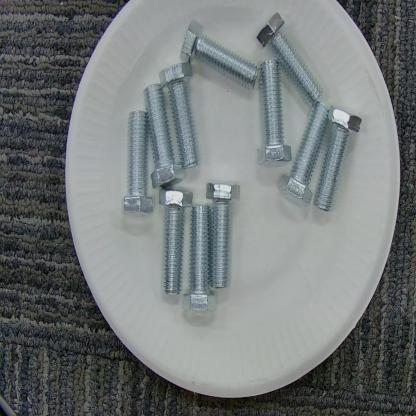FOD: (125, 18, 248, 314), (255, 12, 369, 221)
